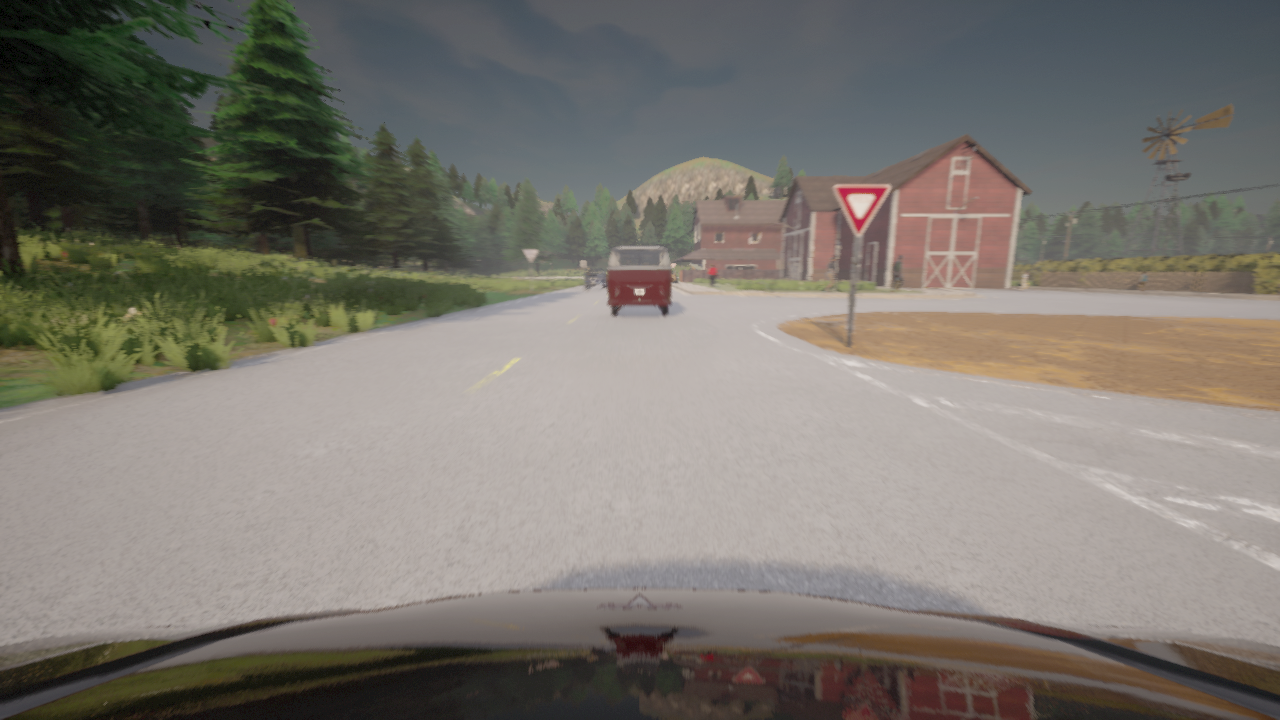cyclist: (0, 588, 1279, 719), (608, 245, 671, 314), (584, 269, 607, 288), (671, 270, 677, 282)
pedestrian: (890, 256, 903, 292), (824, 256, 835, 291), (707, 264, 716, 286), (1138, 271, 1147, 290), (1020, 271, 1028, 290), (895, 278, 899, 288)
